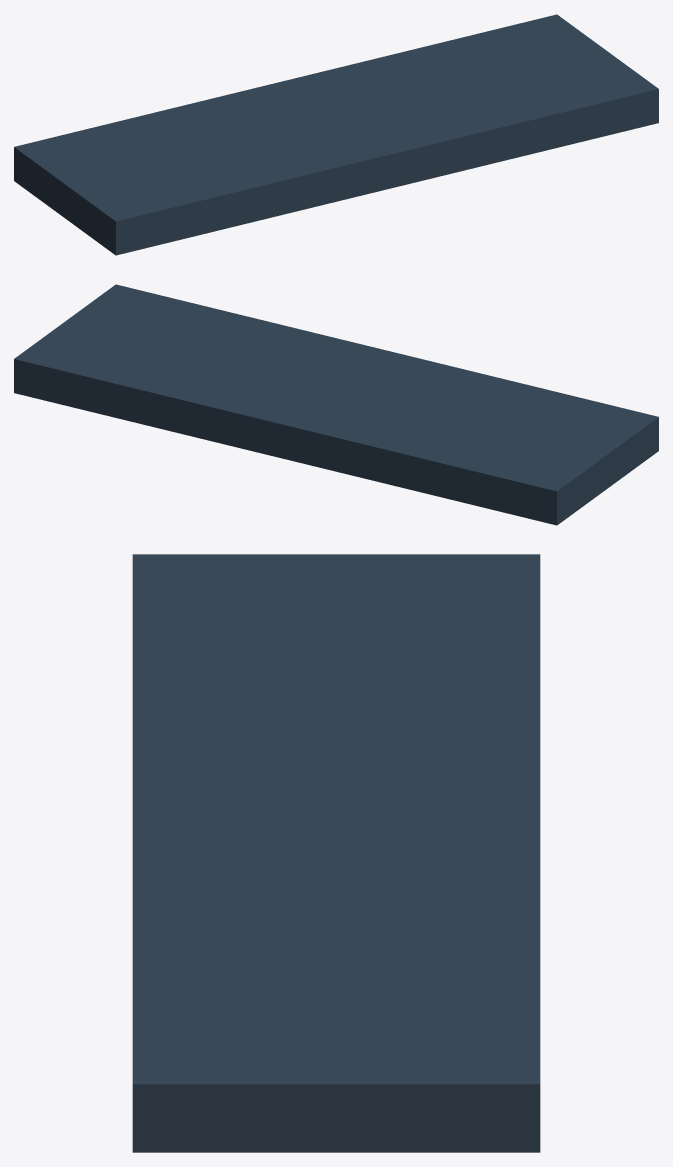
Rendered from luminaria.glb.
3 renders of one model, top to bottom at view 1: azimuth 30°, elevation 25°; view 2: azimuth 150°, elevation 25°; view 3: azimuth 270°, elevation 25°, orthographic. The views are drawn at different scales.
Parts seen in each view (by area): view 1: Corpo; view 2: Corpo; view 3: Corpo.
Boxes of the visible parts, x1=… form: Corpo: x1=14, y1=14, x2=658, y2=255; Corpo: x1=14, y1=284, x2=658, y2=525; Corpo: x1=132, y1=554, x2=540, y2=1152.
Bounding box in the file's own units: 2 × 0.16 × 0.65.
